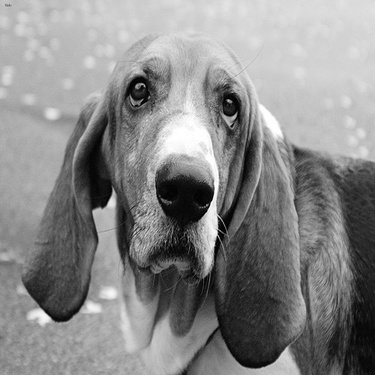dog: (7, 38, 371, 372)
